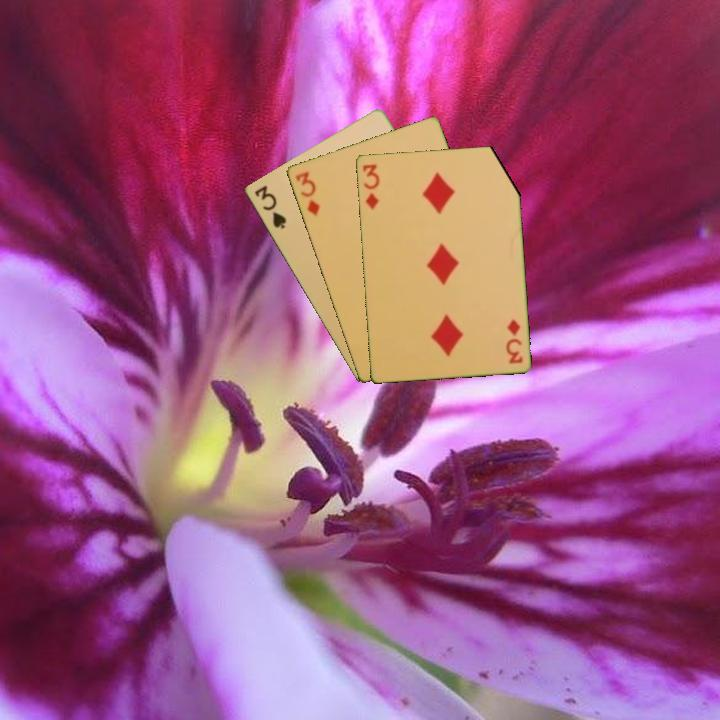3d: (291, 168, 322, 218), (359, 160, 382, 212), (503, 316, 525, 366)
3s: (251, 181, 289, 232)
